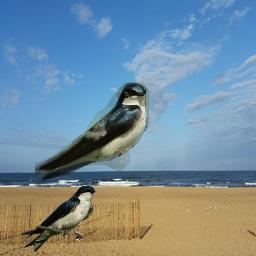Swallow: (35, 82, 149, 182), (18, 185, 96, 252)
